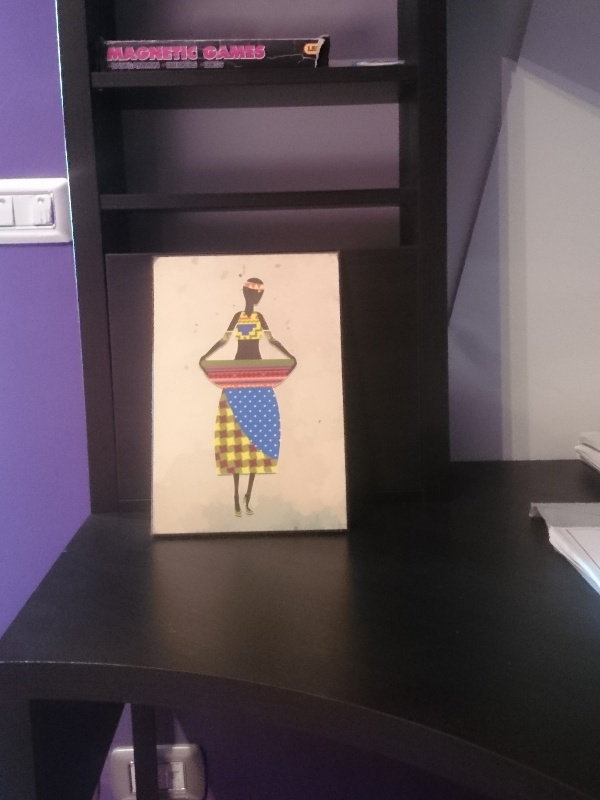my image: (151, 254, 340, 533)
